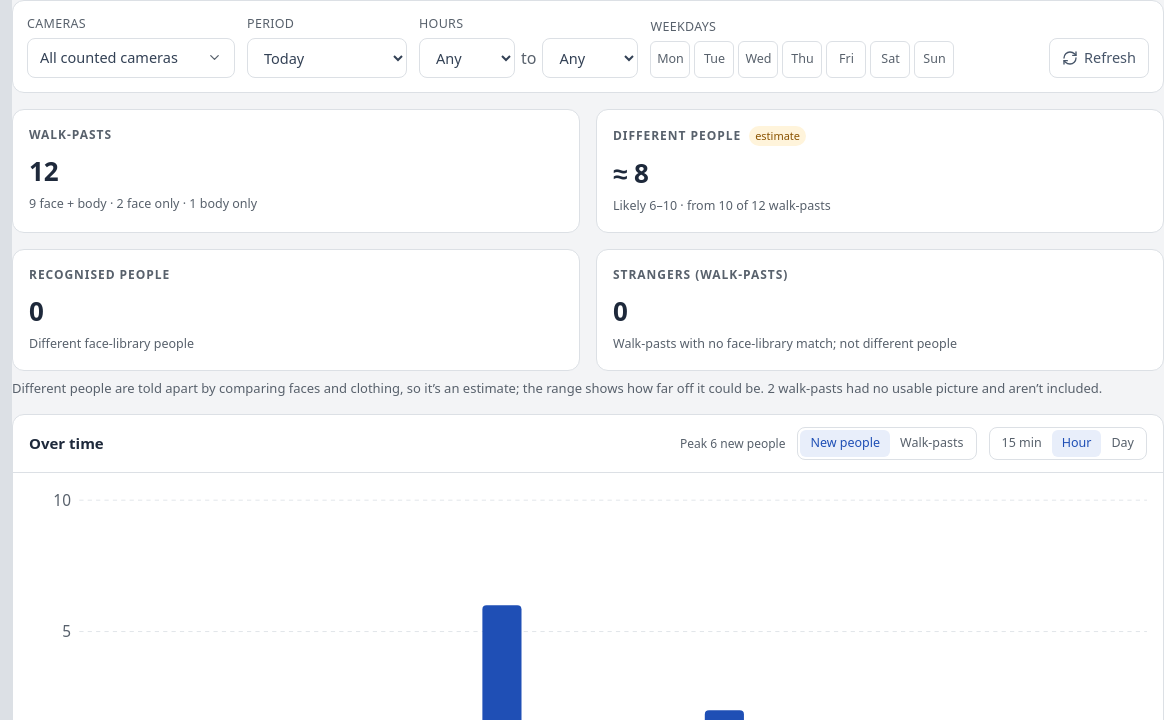
Scenario: CountingView › counts a person once: new the first time, not again when they come back
This screenshot has width=1164, height=720.
Expected: the text "Peak 6 new people" is shown, [680,435,786,453]
Click the button "Walk-pasts": (932, 444) [890,430,974,457]
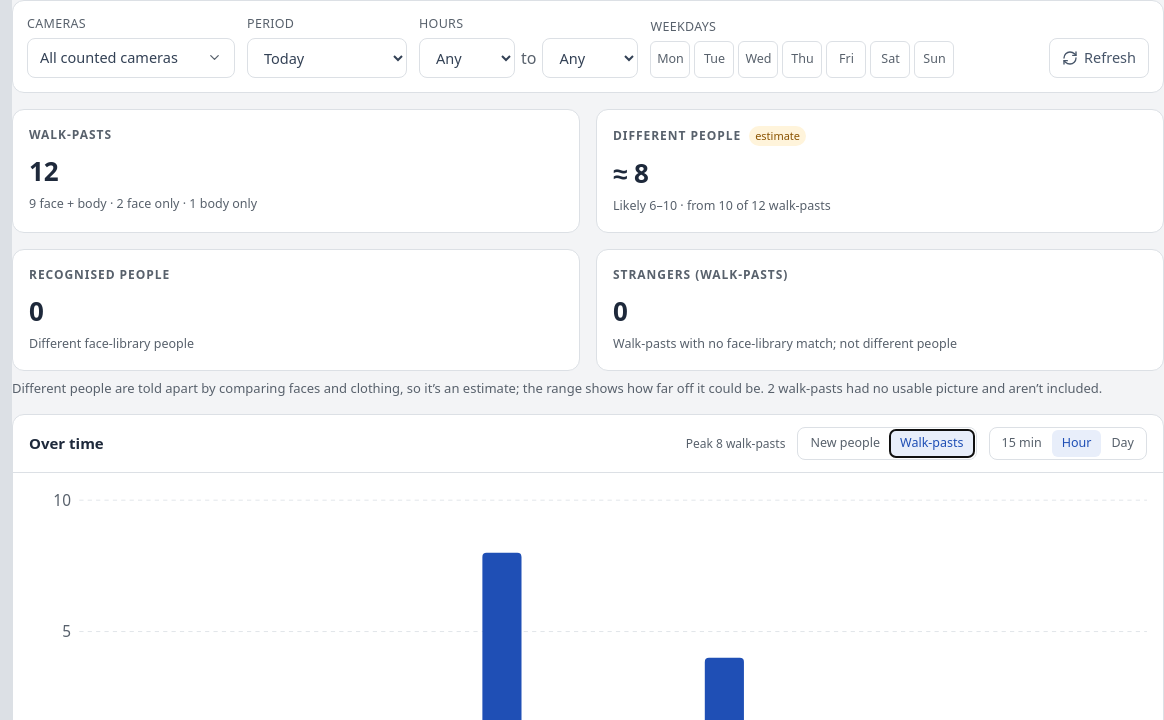
Result: the text "Peak 8 walk-pasts" is shown at [686,435,785,453]
